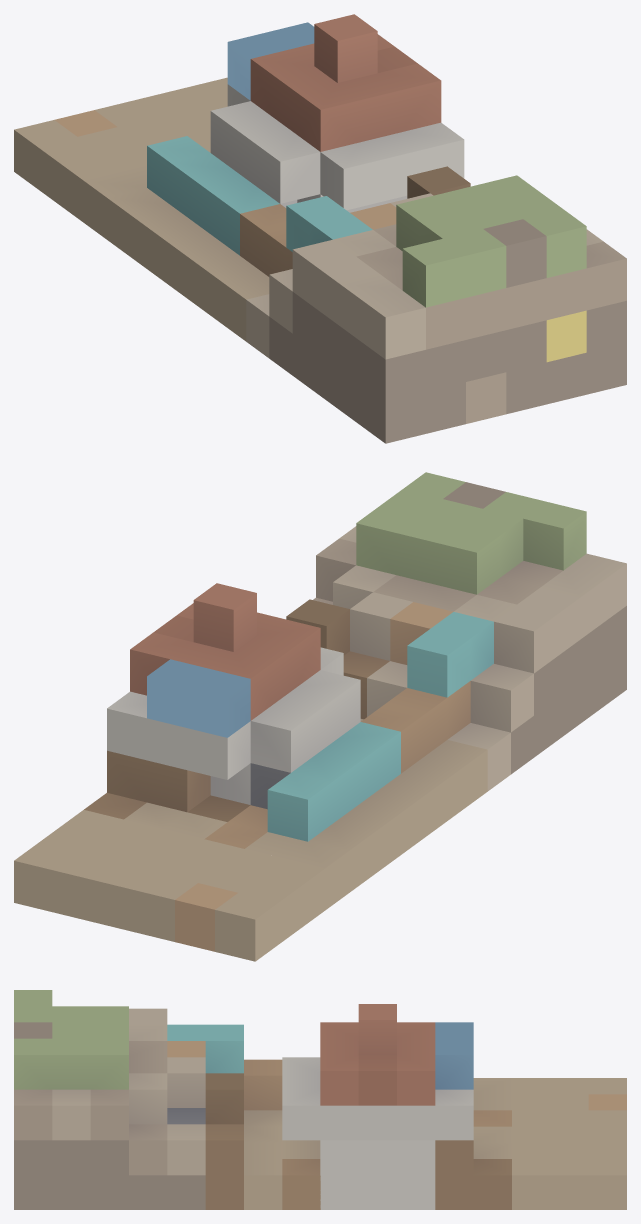
Rendered from gold_mine.lite.glb.
3 renders of one model, top to bottom at view 1: azimuth 30°, elevation 25°; view 2: azimuth 150°, elevation 25°; view 3: azimuth 270°, elevation 25°, orthographic. The views are drawn at different scales.
Visible parts, largest first — view 1: gold_mine; view 2: gold_mine; view 3: gold_mine.
Boxes of the visible parts, bbox=[...] form: gold_mine: bbox=[14, 14, 626, 443]; gold_mine: bbox=[14, 472, 626, 961]; gold_mine: bbox=[14, 990, 626, 1209].
Bounding box in the file's own units: 3 × 2.5 × 8.
